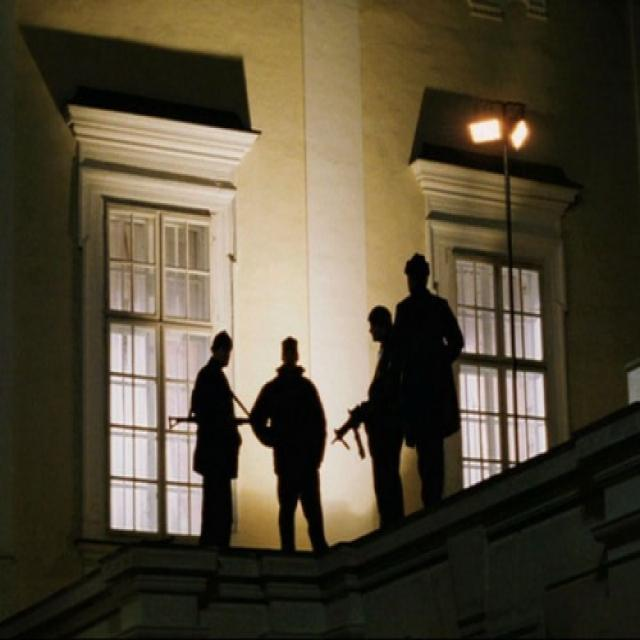rifle: (332, 395, 374, 462)
